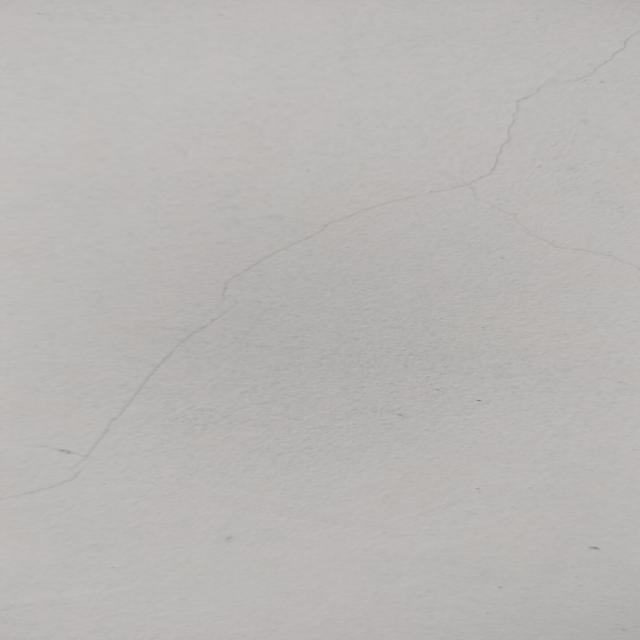Crack: (3, 26, 640, 502)
